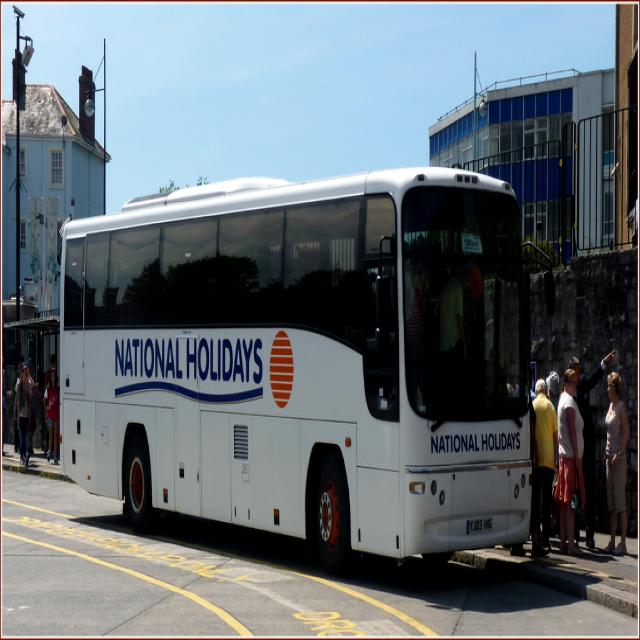Buses: (58, 184, 534, 574)
Pedestrians: (601, 372, 631, 560), (558, 367, 586, 563), (14, 366, 32, 471)
